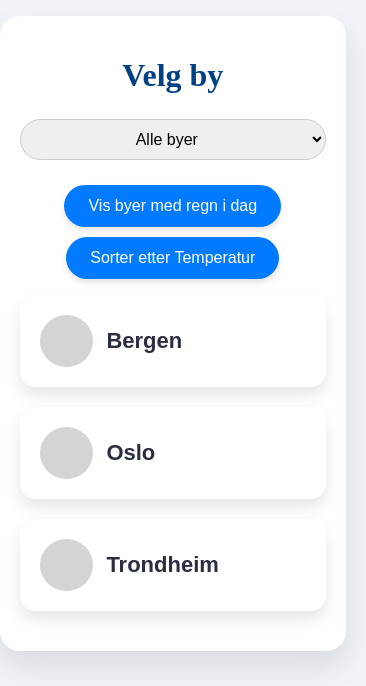
Test: CitiesListView › should sort cities by average temperature
Click the button "Sorter etter Temperatur".
click(173, 258)  # box top-left (66, 237), bottom-right (279, 279)
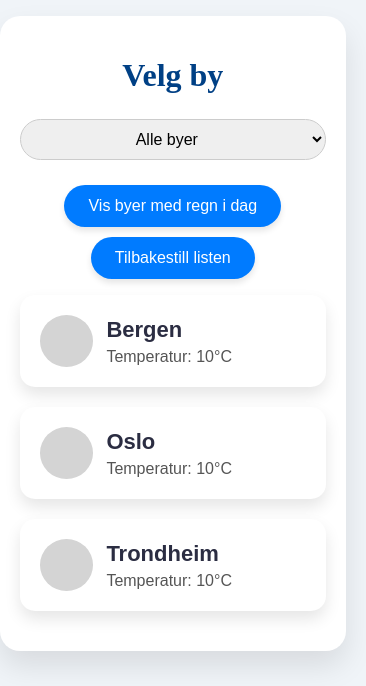
expect the list item "Bergen Temperatur: 10°C" is shown: met, box top-left (20, 295), bottom-right (326, 387)
expect the button "Tilbakestill listen" is shown: met, box top-left (91, 237), bottom-right (255, 279)
